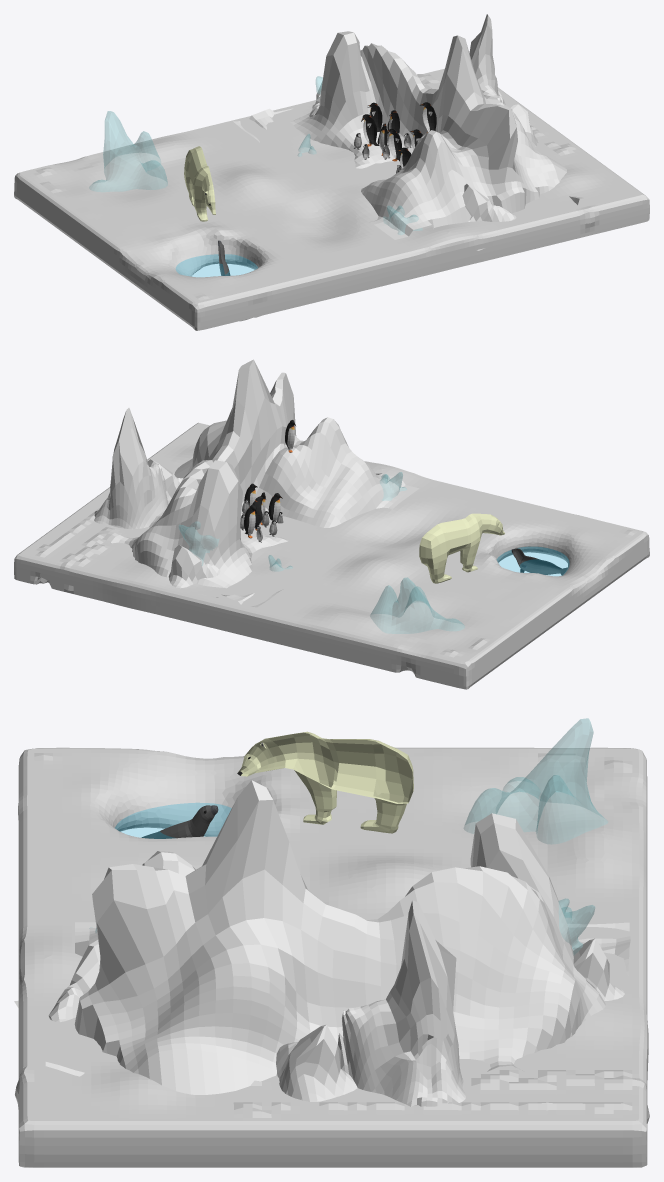
File: iceworld.glb
The picture shows the model from 3 angles, top to bottom: view 1: azimuth 30°, elevation 25°; view 2: azimuth 150°, elevation 25°; view 3: azimuth 270°, elevation 25°; orthographic projection. The views are drawn at different scales.
Visible parts, largest first — view 1: floor.002, Eislandschaft, Plane.001, icebear, Eisberg1, Plane, Eisberg2.3, Plane.002; view 2: floor.002, Eislandschaft, Eisberg1, icebear, Plane.001, Plane, Eisberg2.1, Plane.004, seal; view 3: floor.002, Eislandschaft, Eisberg1, icebear, Plane.001, Eisberg2.2, Plane, Eisberg2.3, Eisberg2.1, Plane.004, seal.
Part boxes in pixels (x1,y1,x2,y2): floor.002: [14, 68, 649, 330]; Eislandschaft: [233, 31, 583, 239]; Plane.001: [89, 111, 167, 191]; icebear: [184, 146, 215, 221]; Eisberg1: [469, 14, 505, 104]; Plane: [176, 254, 257, 276]; Eisberg2.3: [462, 184, 516, 250]; Plane.002: [383, 206, 422, 234]; floor.002: [14, 422, 649, 689]; Eislandschaft: [110, 359, 419, 607]; Eisberg1: [94, 408, 168, 529]; icebear: [419, 513, 504, 583]; Plane.001: [370, 577, 464, 633]; Plane: [497, 547, 569, 575]; Eisberg2.1: [168, 545, 220, 588]; Plane.004: [179, 521, 218, 565]; seal: [511, 548, 567, 575]; floor.002: [15, 747, 649, 1167]; Eislandschaft: [45, 780, 630, 1094]; Eisberg1: [338, 900, 465, 1106]; icebear: [237, 731, 413, 833]; Plane.001: [464, 718, 607, 844]; Eisberg2.2: [276, 1024, 357, 1101]; Plane: [115, 803, 231, 838]; Eisberg2.3: [14, 940, 100, 1022]; Eisberg2.1: [573, 938, 624, 1000]; Plane.004: [558, 898, 594, 954]; seal: [141, 805, 218, 838].
Bounding box in the file's own units: 6.14 × 2.41 × 4.35.
